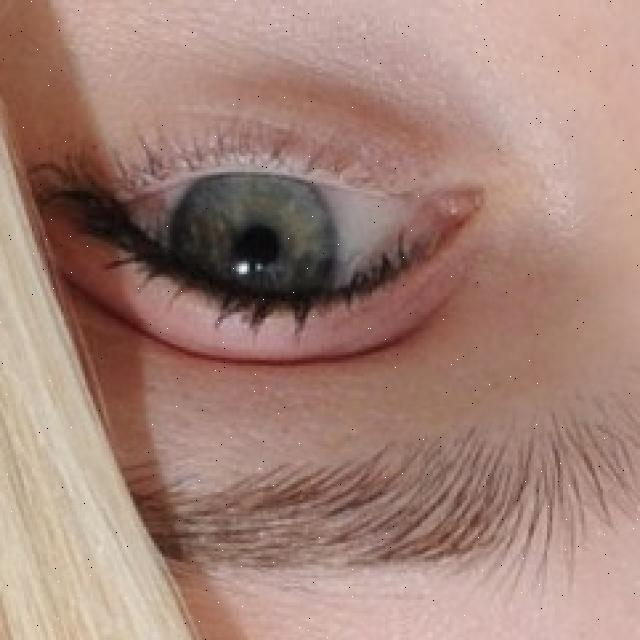Normal: (167, 159, 329, 329)
